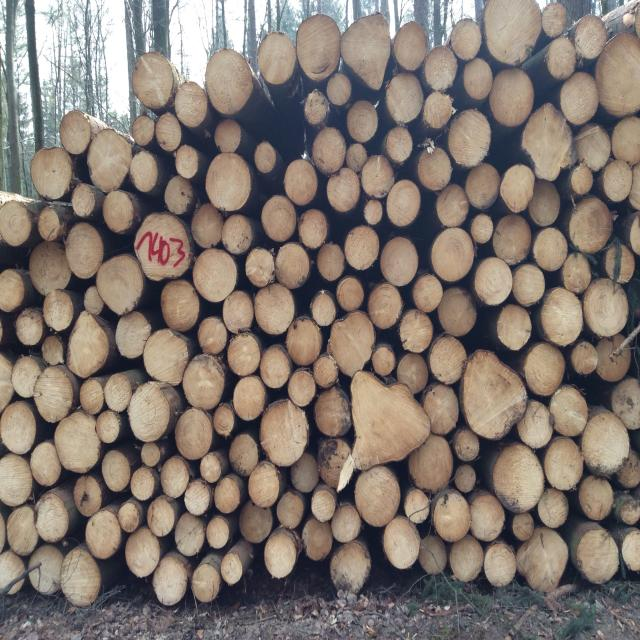wood-log: (346, 369, 428, 466), (460, 352, 528, 441), (522, 106, 575, 183), (135, 212, 192, 281), (342, 16, 393, 90), (483, 0, 542, 63), (597, 31, 640, 114), (492, 444, 544, 512), (520, 526, 571, 592), (577, 411, 628, 476), (204, 50, 254, 116), (261, 398, 308, 465), (298, 13, 344, 78), (98, 253, 146, 315), (331, 314, 377, 378), (65, 313, 109, 379), (85, 129, 131, 192), (54, 414, 101, 474), (572, 526, 619, 585), (352, 466, 398, 526), (583, 278, 629, 338), (128, 383, 174, 442), (540, 289, 585, 349), (206, 156, 252, 214), (142, 329, 190, 384), (408, 435, 454, 491), (446, 110, 491, 167), (491, 68, 534, 127), (34, 364, 77, 422), (183, 354, 228, 409), (569, 196, 613, 252), (130, 52, 173, 108), (192, 250, 238, 302), (432, 227, 476, 281), (29, 242, 72, 297), (61, 547, 100, 606), (524, 343, 567, 396), (27, 147, 71, 198), (65, 221, 104, 276), (544, 437, 584, 490), (258, 33, 298, 86), (255, 284, 296, 335), (161, 280, 201, 332), (174, 408, 214, 460), (331, 540, 370, 593), (559, 74, 599, 125), (385, 74, 425, 125), (1, 400, 38, 454), (550, 387, 589, 438), (35, 489, 71, 544), (316, 437, 354, 489), (382, 515, 419, 568), (474, 258, 514, 306), (492, 216, 532, 264), (438, 288, 476, 338), (154, 553, 191, 604), (427, 336, 466, 384), (380, 238, 418, 287), (434, 493, 472, 542), (316, 389, 354, 438), (87, 507, 123, 558), (517, 400, 554, 449), (422, 387, 459, 436), (126, 525, 161, 576), (501, 164, 538, 212), (471, 493, 507, 542), (27, 545, 62, 595), (284, 320, 322, 366), (311, 126, 348, 173), (392, 22, 428, 70), (368, 281, 404, 328), (282, 161, 318, 208), (577, 124, 613, 171), (117, 312, 152, 360), (0, 455, 32, 507), (464, 162, 500, 208), (449, 535, 484, 582), (496, 303, 531, 350), (276, 243, 311, 290), (422, 47, 459, 91), (344, 226, 380, 271), (263, 196, 298, 242), (172, 82, 207, 128), (385, 181, 420, 227), (534, 227, 570, 271), (580, 476, 615, 521), (8, 506, 40, 555), (28, 440, 62, 486), (417, 149, 453, 192), (328, 166, 362, 211), (234, 375, 268, 420), (265, 530, 298, 576), (226, 334, 262, 376), (575, 14, 609, 58), (248, 463, 282, 507), (192, 203, 225, 248), (400, 312, 435, 354), (600, 159, 634, 202), (612, 376, 640, 428), (0, 201, 33, 245), (437, 184, 470, 228), (527, 182, 559, 227), (239, 502, 274, 543), (102, 191, 136, 233), (484, 543, 516, 587), (362, 156, 396, 197), (513, 263, 546, 305), (59, 112, 91, 155), (546, 38, 578, 81), (262, 345, 294, 388), (43, 290, 75, 332), (173, 514, 205, 556), (160, 457, 192, 499), (398, 352, 431, 392), (598, 340, 630, 381), (302, 518, 333, 560), (613, 116, 640, 164), (230, 434, 260, 477), (221, 292, 253, 332), (604, 244, 636, 284), (245, 248, 276, 289), (347, 100, 377, 142), (561, 254, 592, 294), (331, 504, 362, 544), (101, 450, 131, 491), (463, 58, 493, 99), (413, 274, 445, 312), (452, 20, 483, 59), (223, 215, 254, 254), (538, 488, 568, 528), (418, 533, 448, 573), (147, 497, 176, 538), (75, 476, 104, 517), (192, 559, 220, 601), (300, 209, 330, 248), (290, 454, 319, 494), (12, 355, 40, 396), (131, 152, 159, 193), (197, 317, 228, 354), (423, 92, 454, 129), (286, 368, 316, 406), (165, 174, 194, 213), (0, 550, 26, 593), (277, 490, 307, 527), (317, 244, 346, 282), (0, 268, 25, 312), (384, 127, 414, 163), (16, 308, 44, 346), (214, 476, 242, 514), (104, 373, 132, 411), (156, 113, 184, 150), (337, 276, 365, 311), (183, 479, 210, 515), (310, 486, 338, 520), (570, 341, 598, 374), (80, 377, 106, 412), (311, 354, 338, 387), (73, 183, 99, 217), (132, 467, 158, 501), (96, 410, 122, 444), (543, 2, 569, 36), (217, 120, 243, 154), (406, 488, 432, 522), (311, 292, 337, 326), (174, 146, 199, 180), (617, 455, 640, 491), (207, 516, 232, 549), (0, 354, 14, 412), (327, 73, 352, 105), (454, 430, 479, 462), (212, 403, 235, 437), (622, 528, 640, 571), (38, 206, 60, 241), (305, 92, 328, 125), (131, 115, 155, 146), (221, 552, 242, 586), (572, 164, 595, 195), (254, 143, 277, 174), (41, 334, 64, 365), (374, 345, 397, 376), (120, 501, 142, 533), (200, 451, 222, 482), (454, 465, 477, 494), (472, 214, 494, 244), (513, 512, 536, 540), (348, 142, 368, 172), (86, 287, 106, 316), (620, 500, 640, 526), (140, 443, 160, 466), (365, 200, 382, 226), (630, 214, 640, 255), (631, 166, 640, 210), (0, 515, 7, 551), (0, 318, 6, 343), (634, 11, 640, 36)
